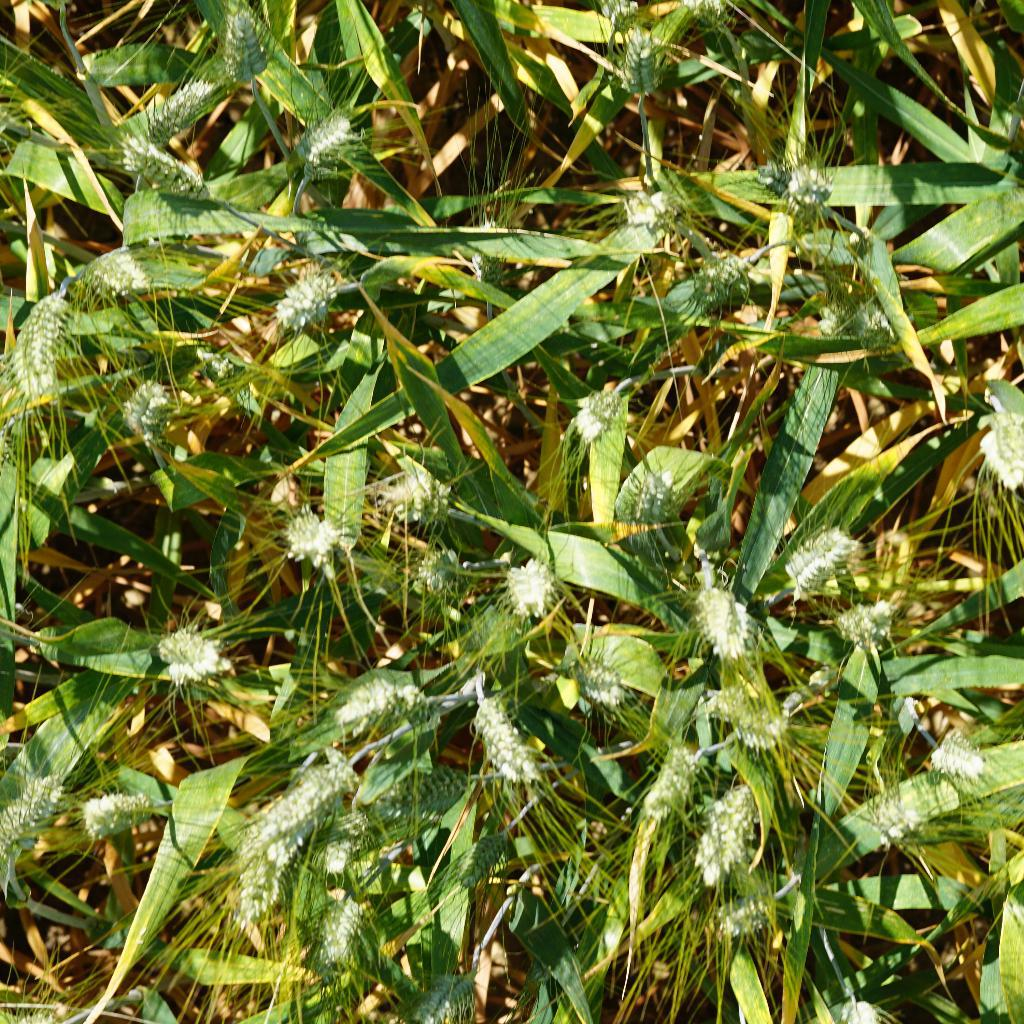0-0: (230, 757, 362, 838), (459, 684, 552, 796), (795, 262, 907, 354), (0, 284, 70, 414), (0, 759, 73, 881), (691, 777, 773, 885), (112, 134, 221, 215), (665, 564, 757, 654), (314, 657, 449, 717), (772, 514, 863, 593), (627, 727, 705, 819), (374, 763, 492, 823), (367, 460, 466, 529), (295, 884, 365, 979), (609, 168, 698, 239), (275, 509, 357, 586), (126, 78, 224, 141), (718, 683, 799, 757), (815, 593, 908, 656), (216, 2, 279, 94), (284, 104, 367, 172), (609, 25, 681, 103), (258, 266, 337, 336), (146, 617, 225, 686), (555, 639, 634, 707), (463, 189, 524, 277), (971, 397, 1024, 496), (82, 783, 171, 841), (919, 722, 993, 789), (692, 242, 757, 318), (67, 242, 149, 302), (228, 840, 288, 922), (441, 828, 509, 899), (490, 550, 555, 623), (561, 384, 632, 448), (302, 829, 374, 888), (852, 783, 920, 845), (399, 539, 463, 601), (407, 967, 474, 1024), (770, 164, 836, 221), (119, 378, 179, 440), (701, 888, 781, 934), (626, 467, 679, 530), (191, 333, 242, 392), (832, 996, 888, 1024)
